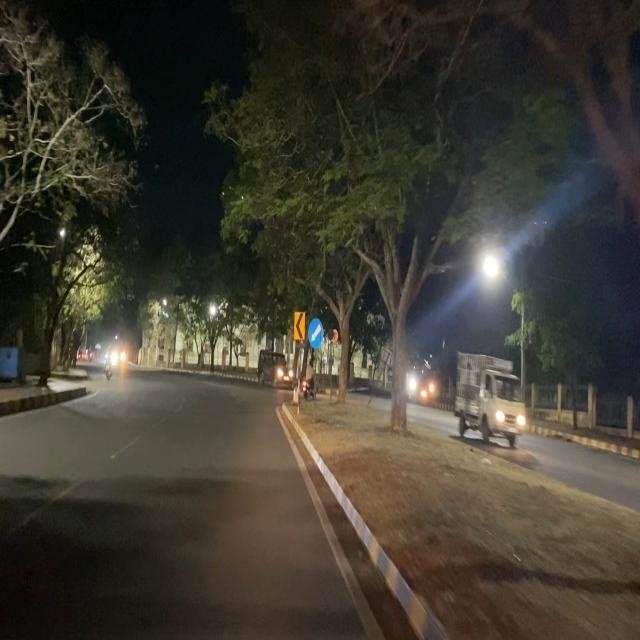bien_hieu_lenh: (307, 316, 325, 351)
